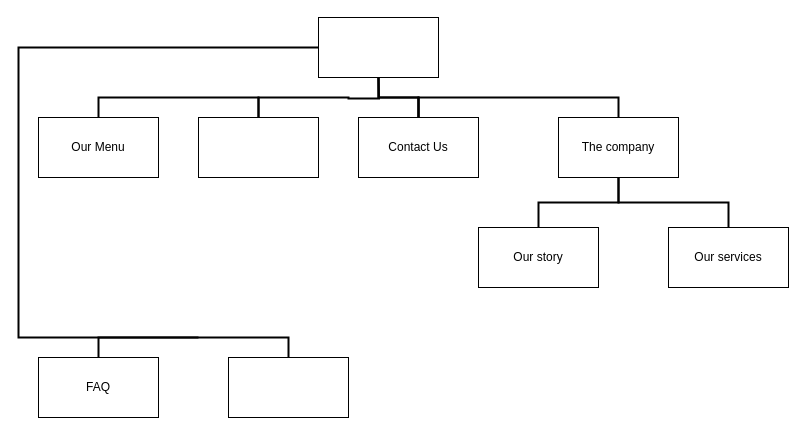
The diagram is 806 pixels wide and 435 high, and some of its shapes have lost their labels. The shapes that lost their labels are listed below. From the top down, each one's centre as x and y in pixels, then its label:
At (378,47): "Home Page".
At (258,147): "Events".
At (288,387): "Online delivery".
